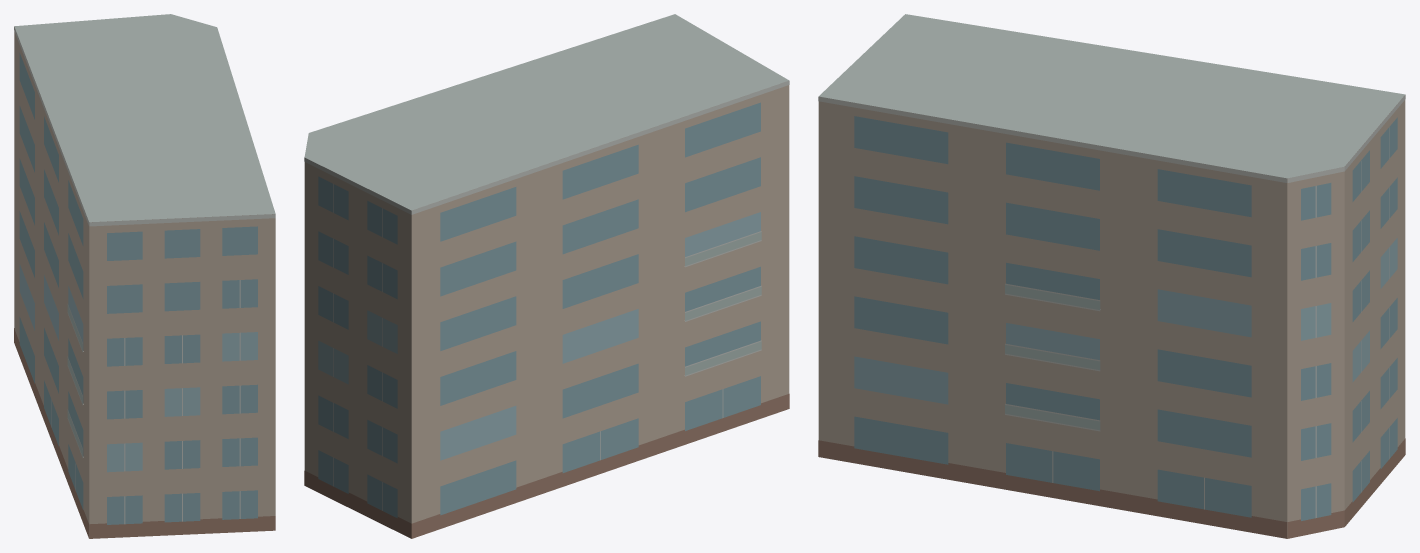
File: survey-upis-32964820.glb
3 renders of one model, left to right at view 1: azimuth 30°, elevation 25°; view 2: azimuth 150°, elevation 25°; view 3: azimuth 270°, elevation 25°, orthographic. The views are drawn at different scales.
Visible parts, largest first — view 1: survey-upis-32964820.tmp; view 2: survey-upis-32964820.tmp; view 3: survey-upis-32964820.tmp.
Part boxes in pixels (box(x1,y1,x2,y2)): survey-upis-32964820.tmp: box(14, 14, 275, 538); survey-upis-32964820.tmp: box(304, 14, 789, 538); survey-upis-32964820.tmp: box(818, 14, 1405, 538).
Size of the model in its own units: 17.9 by 18.3 by 27.01.
